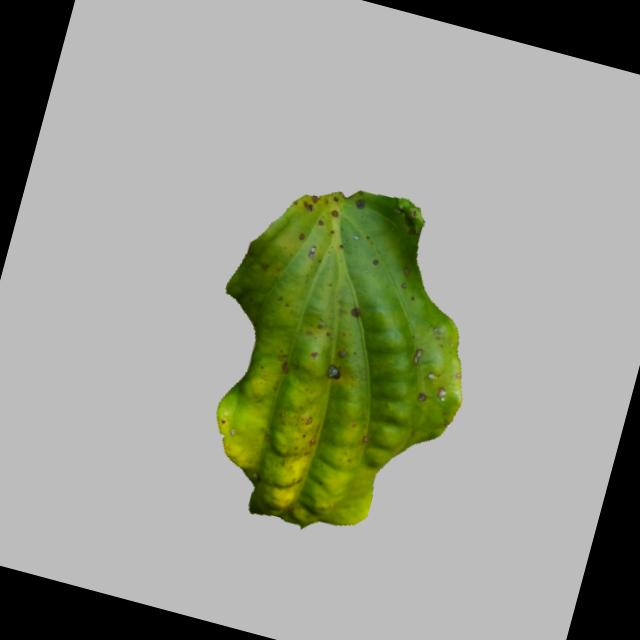yellow-mottle-virus: (174, 162, 519, 558)
